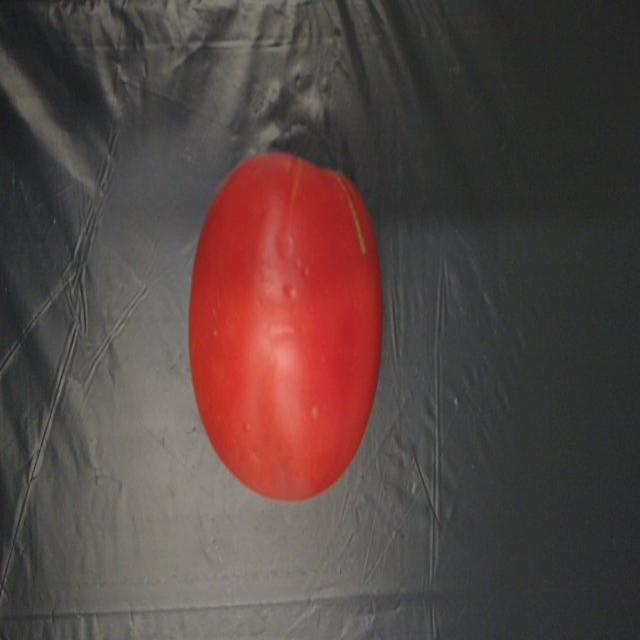kirmizi: (182, 128, 388, 510)
